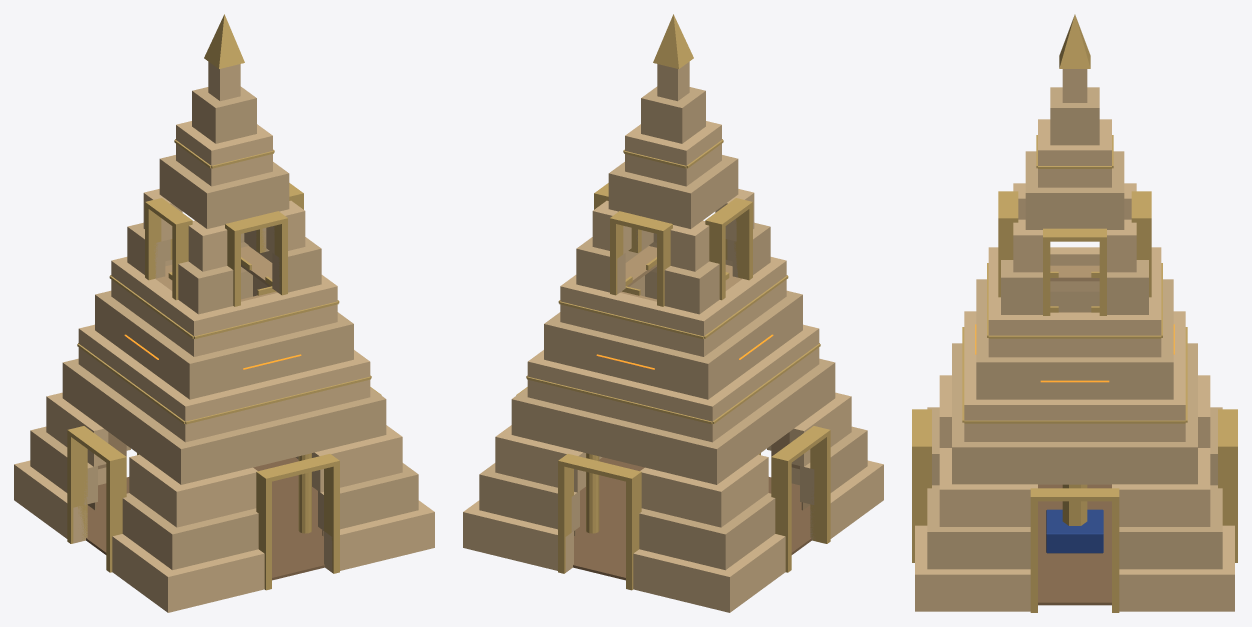
The model's file is 04_dawn_pyramid.glb.
The picture shows the model from 3 angles, left to right: view 1: azimuth 30°, elevation 25°; view 2: azimuth 150°, elevation 25°; view 3: azimuth 270°, elevation 25°; orthographic projection. The views are drawn at different scales.
Parts seen in each view (by area): view 1: morning_steps_nocol, morning_frames_nocol, morning_floor, morning_trim_nocol_noshadow, morning_cap_nocol, morning_galleries, morning_columns; view 2: morning_steps_nocol, morning_frames_nocol, morning_floor, morning_trim_nocol_noshadow, morning_cap_nocol, morning_galleries, morning_columns; view 3: morning_steps_nocol, morning_frames_nocol, morning_floor, morning_trim_nocol_noshadow, morning_obelisk_base, morning_cap_nocol, morning_galleries, morning_obelisk.
Part boxes in pixels (left/top/right/bottom): morning_steps_nocol: left=14, top=61, right=434, bottom=612; morning_frames_nocol: left=67, top=183, right=381, bottom=590; morning_floor: left=86, top=457, right=324, bottom=580; morning_trim_nocol_noshadow: left=77, top=139, right=371, bottom=424; morning_cap_nocol: left=204, top=14, right=244, bottom=68; morning_galleries: left=155, top=246, right=277, bottom=301; morning_columns: left=137, top=453, right=311, bottom=533; morning_steps_nocol: left=463, top=61, right=883, bottom=612; morning_frames_nocol: left=516, top=183, right=830, bottom=590; morning_floor: left=573, top=457, right=811, bottom=580; morning_trim_nocol_noshadow: left=526, top=139, right=820, bottom=424; morning_cap_nocol: left=653, top=14, right=693, bottom=68; morning_galleries: left=620, top=246, right=742, bottom=301; morning_columns: left=586, top=453, right=760, bottom=533; morning_steps_nocol: left=915, top=69, right=1234, bottom=611; morning_frames_nocol: left=912, top=191, right=1237, bottom=612; morning_floor: left=1038, top=484, right=1111, bottom=605; morning_trim_nocol_noshadow: left=962, top=135, right=1187, bottom=423; morning_obelisk_base: left=1046, top=509, right=1103, bottom=553; morning_cap_nocol: left=1059, top=14, right=1090, bottom=68; morning_galleries: left=1050, top=265, right=1099, bottom=312; morning_obelisk: left=1062, top=484, right=1087, bottom=525.
Size of what is drawn, in the model's own units: 79.4 by 142 by 79.4.
